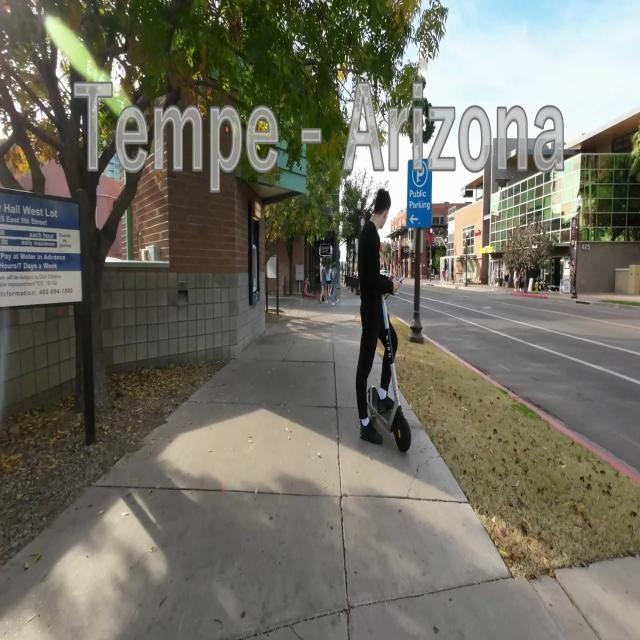road: (391, 283, 640, 478)
side walk: (0, 312, 640, 639)
street sign: (406, 143, 435, 319)
